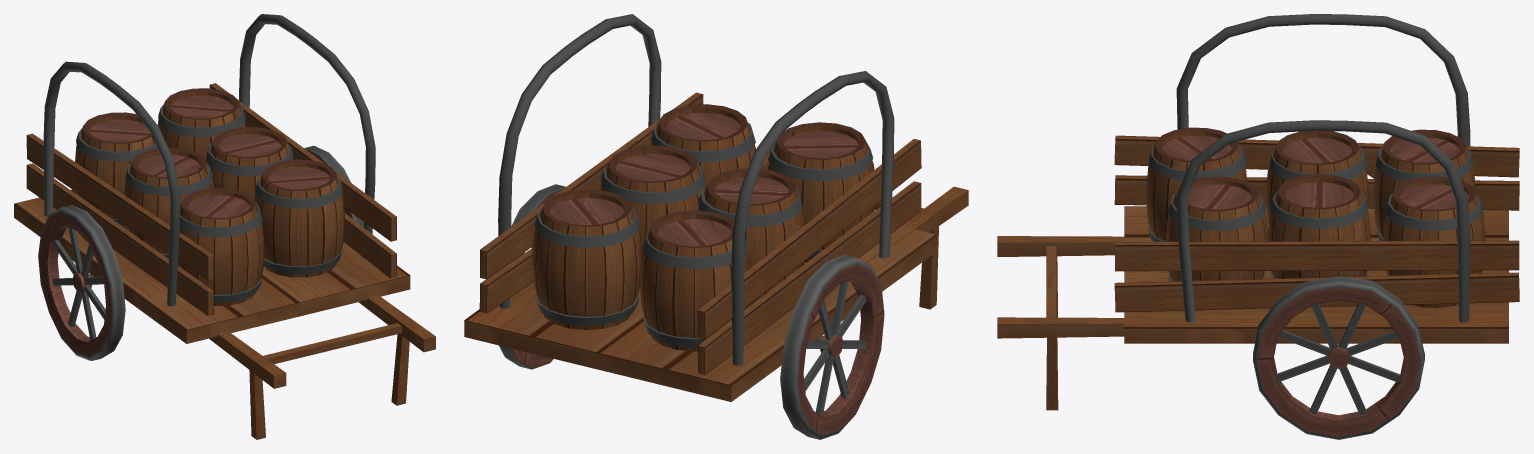
Rendered from cart.glb.
The picture shows the model from 3 angles, left to right: view 1: azimuth 30°, elevation 25°; view 2: azimuth 150°, elevation 25°; view 3: azimuth 270°, elevation 25°; orthographic projection. The views are drawn at different scales.
Visible parts, largest first — view 1: Cart; view 2: Cart; view 3: Cart.
Boxes of the visible parts, <box> form: Cart: <box>14,14,435,439</box>; Cart: <box>464,14,968,439</box>; Cart: <box>997,14,1519,439</box>.
Size of what is drawn, in the model's own units: 3.37 by 3.42 by 5.34.
2 materials, 2 textured.
